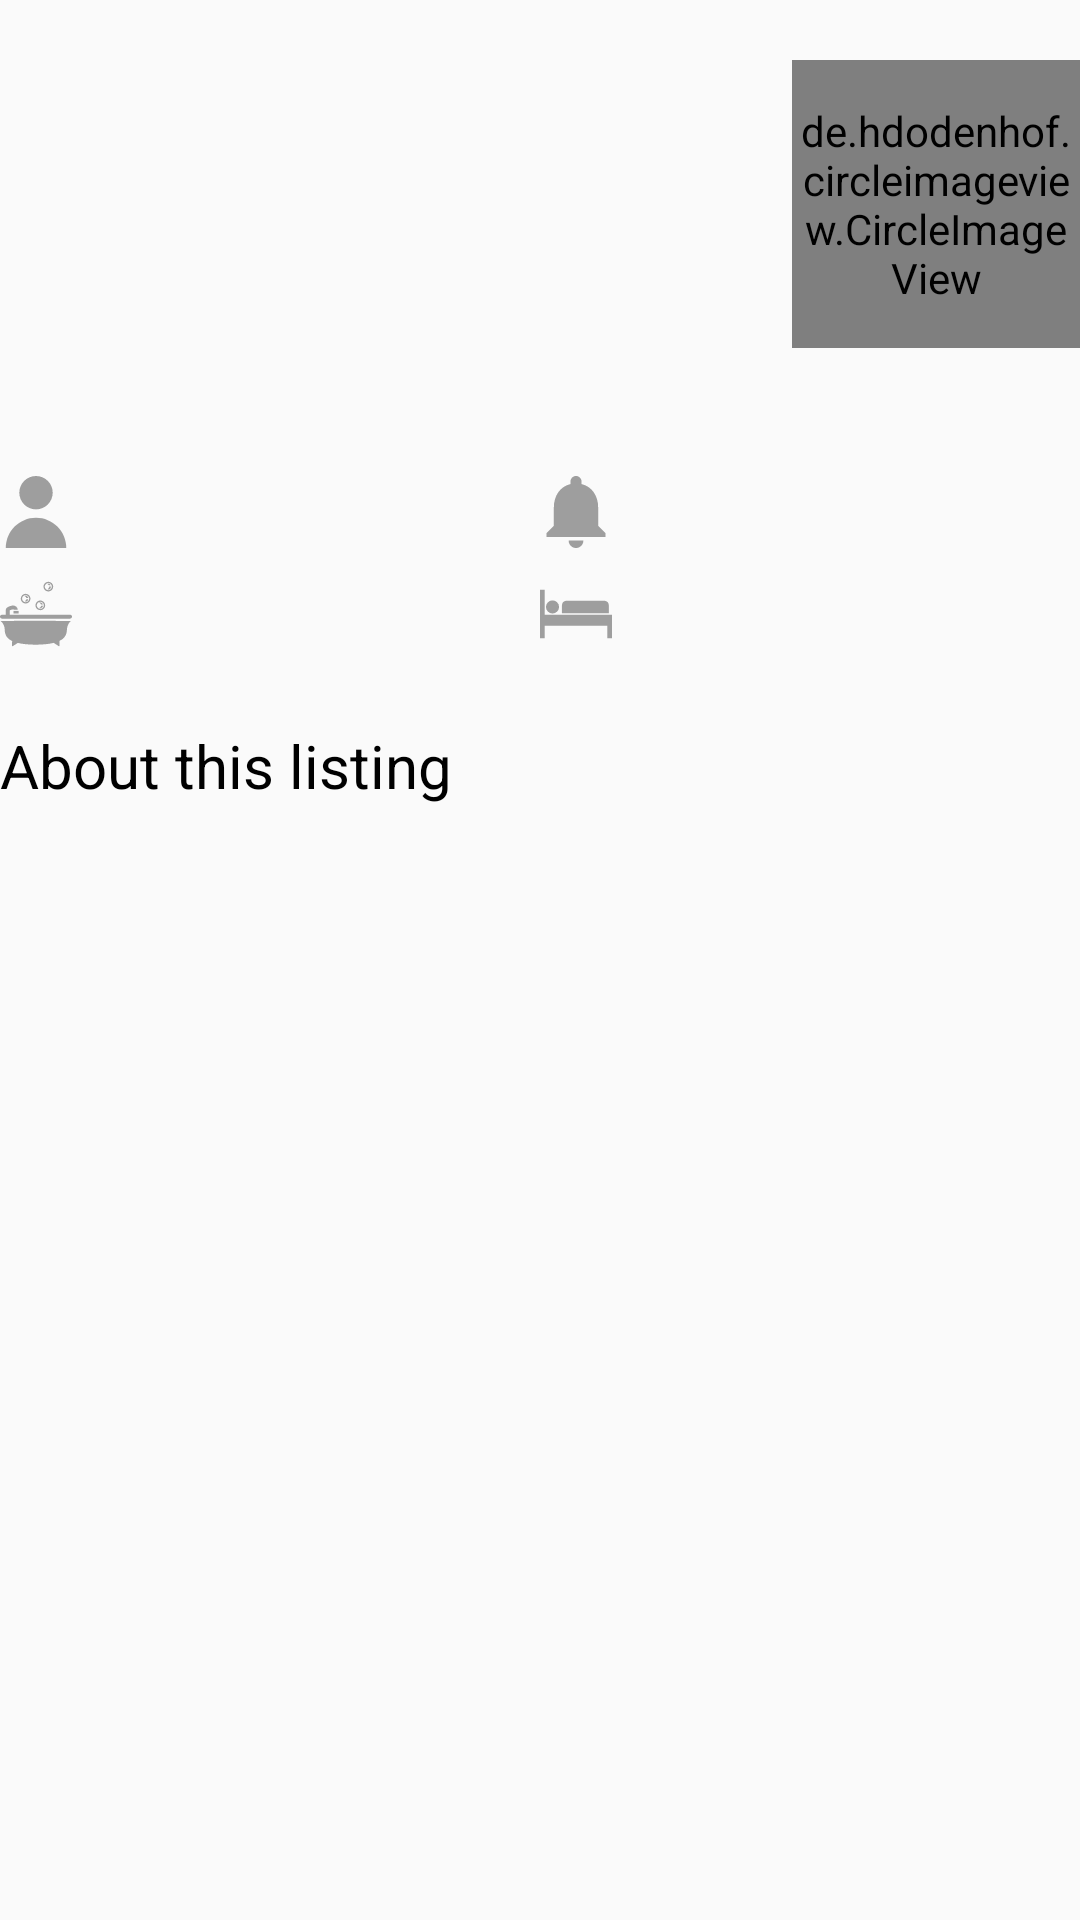

Icons on this 1080px×1920px Android screen, each with the point to tap as [x,y]:
bath: [36,614]
bed: [576,614]
guest: [36,512]
notification: [576,512]
